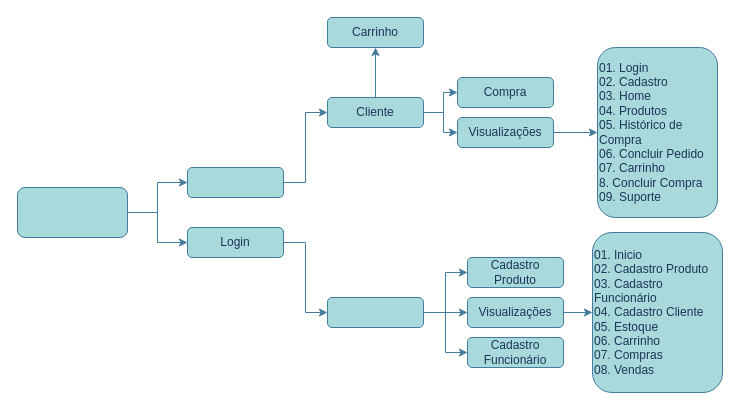
This 740x410 diagram has some shape labels left out. Here are the shapes that lost their labels. From the top down, the centre of each, then its label:
At point 235,182: "Cadastro".
At point 72,212: "Home".
At point 375,312: "Admin".
